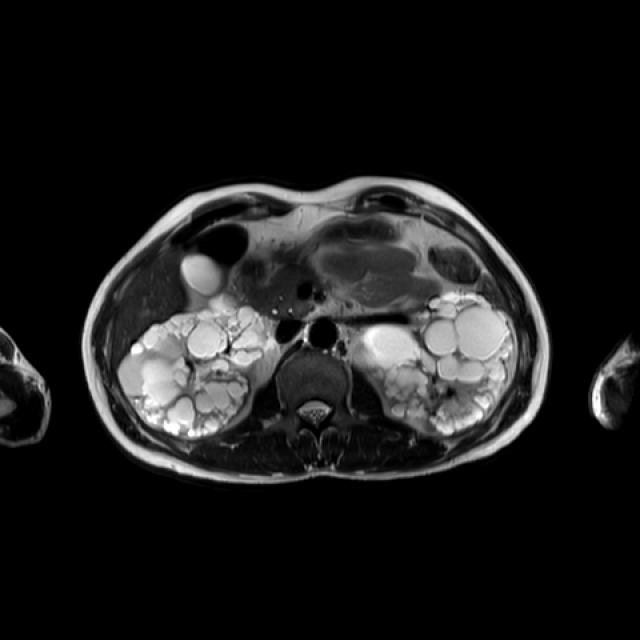sag: (121, 294, 268, 436)
sol: (364, 291, 514, 437)
